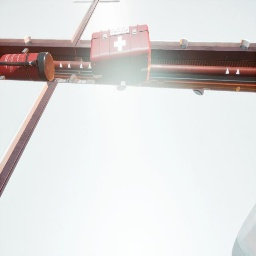0: (236, 203, 256, 256)
FireExtinguisher ]: (0, 52, 54, 81)
FirstAidBox ,: (90, 24, 151, 85)
